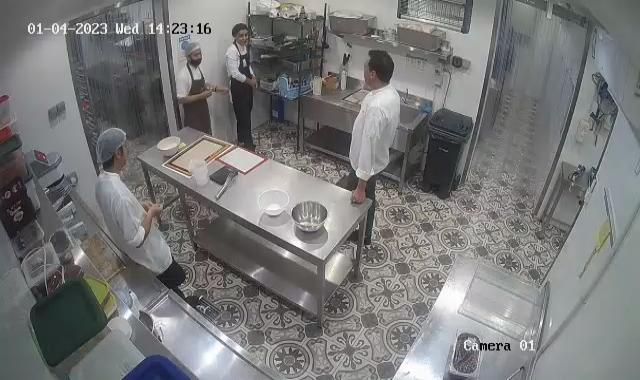hairnet: (96, 126, 129, 164), (181, 41, 201, 59)
no_hairnet: (366, 46, 396, 83), (232, 23, 248, 40)
